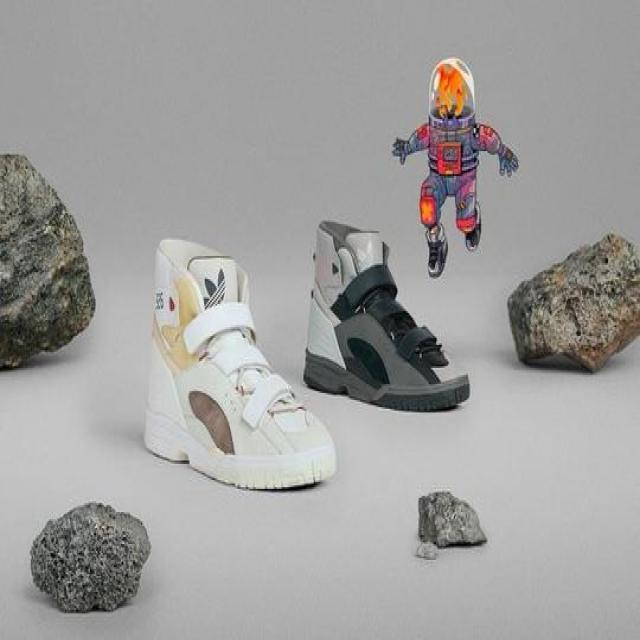shoe: (135, 233, 353, 508), (296, 206, 484, 423)
